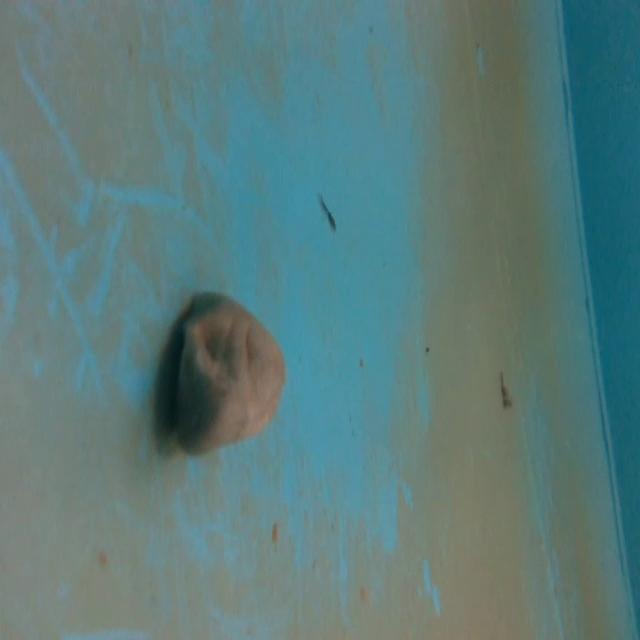rock: (154, 280, 294, 468)
